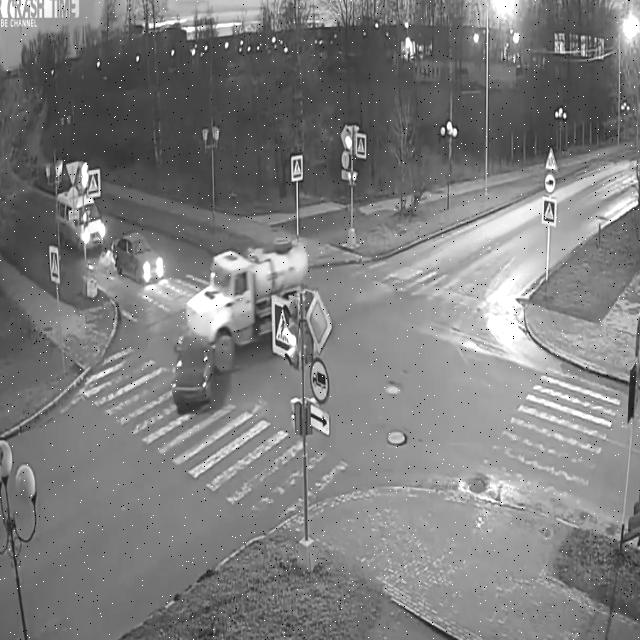accident: (161, 220, 337, 427)
